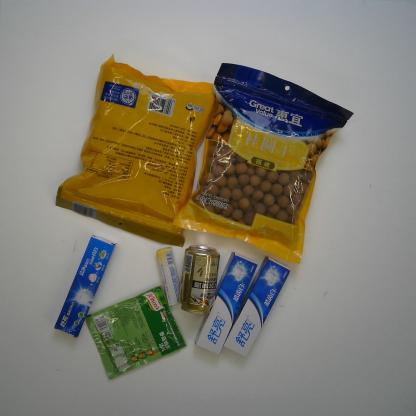Alcohol: (179, 244, 220, 315)
Candy: (157, 246, 183, 307)
Dried Food: (172, 62, 354, 266), (53, 53, 220, 248)
Personal Hygiene: (193, 251, 260, 356), (223, 255, 291, 358), (52, 234, 118, 338)
Seasoner: (85, 285, 188, 379)
